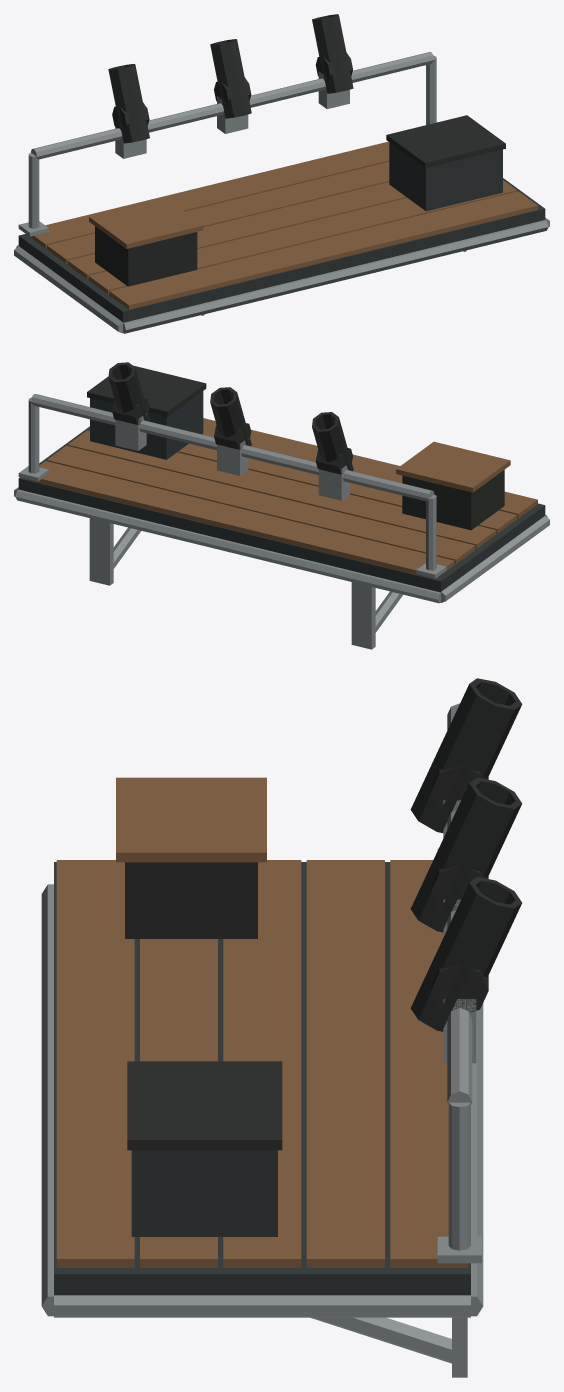
The model's file is boatDeck-lv3.glb.
The picture shows the model from 3 angles, top to bottom: view 1: azimuth 30°, elevation 25°; view 2: azimuth 150°, elevation 25°; view 3: azimuth 270°, elevation 25°; orthographic projection. The views are drawn at different scales.
Parts seen in each view (by area): view 1: wide-working-deck-plank-5, boat-mounted-working-platform, open-octagonal-rod-sleeve (×3), wide-working-deck-plank-1, wide-working-deck-plank-4, deck-perimeter-frame, wide-working-deck-plank-2, compact-fish-locker, wide-working-deck-plank-3, horizontal-rod-mounting-rail, compact-tackle-storage, sealed-locker-lid (+5 smaller); view 2: wide-working-deck-plank-1, wide-working-deck-plank-2, boat-mounted-working-platform, wide-working-deck-plank-3, deck-perimeter-frame, open-octagonal-rod-sleeve (×3), horizontal-rod-mounting-rail, bait-preparation-board, compact-tackle-storage, vertical-transom-mounting-plate (×2), wide-working-deck-plank-5, compact-fish-locker (+7 smaller); view 3: wide-working-deck-plank-2, wide-working-deck-plank-5, open-octagonal-rod-sleeve (×3), boat-mounted-working-platform, wide-working-deck-plank-1, wide-working-deck-plank-3, sealed-locker-lid, bait-preparation-board, compact-fish-locker, wide-working-deck-plank-4, compact-tackle-storage, deck-end-frame (+7 smaller).
Boxes of the visible parts, x1,y1,x2,y2 form: wide-working-deck-plank-5: (109,191,537,309); boat-mounted-working-platform: (18,178,545,322); open-octagonal-rod-sleeve (×3): (108,14,353,143); wide-working-deck-plank-1: (26,141,389,248); wide-working-deck-plank-4: (88,180,516,294); deck-perimeter-frame: (123,220,548,333); wide-working-deck-plank-2: (47,162,389,263); compact-fish-locker: (389,142,502,211); wide-working-deck-plank-3: (67,182,407,279); horizontal-rod-mounting-rail: (31,52,434,159); compact-tackle-storage: (95,226,197,286); sealed-locker-lid: (386,115,505,168); wide-working-deck-plank-1: (26,461,454,579); wide-working-deck-plank-2: (47,445,475,563); boat-mounted-working-platform: (18,426,545,592); wide-working-deck-plank-3: (67,430,496,548); deck-perimeter-frame: (15,489,440,603); open-octagonal-rod-sleeve (×3): (108,362,353,472); horizontal-rod-mounting-rail: (31,394,434,501); bait-preparation-board: (396,441,510,492); compact-tackle-storage: (402,470,504,530); vertical-transom-mounting-plate (×2): (89,518,375,649); wide-working-deck-plank-5: (202,418,537,518); compact-fish-locker: (90,391,203,459); wide-working-deck-plank-2: (306,860,384,1267); wide-working-deck-plank-5: (56,860,134,1267); open-octagonal-rod-sleeve (×3): (410,678,522,1031); boat-mounted-working-platform: (54,862,470,1295); wide-working-deck-plank-1: (390,860,468,1267); wide-working-deck-plank-3: (223,860,301,1267); sealed-locker-lid: (127,1061,282,1150); bait-preparation-board: (116,777,266,862); compact-fish-locker: (131,1150,277,1236); wide-working-deck-plank-4: (140,939,217,1267); compact-tackle-storage: (125,862,257,938); deck-end-frame: (54,1295,470,1317).
Size of the model in its own units: 2 by 1.01 by 0.9643.
